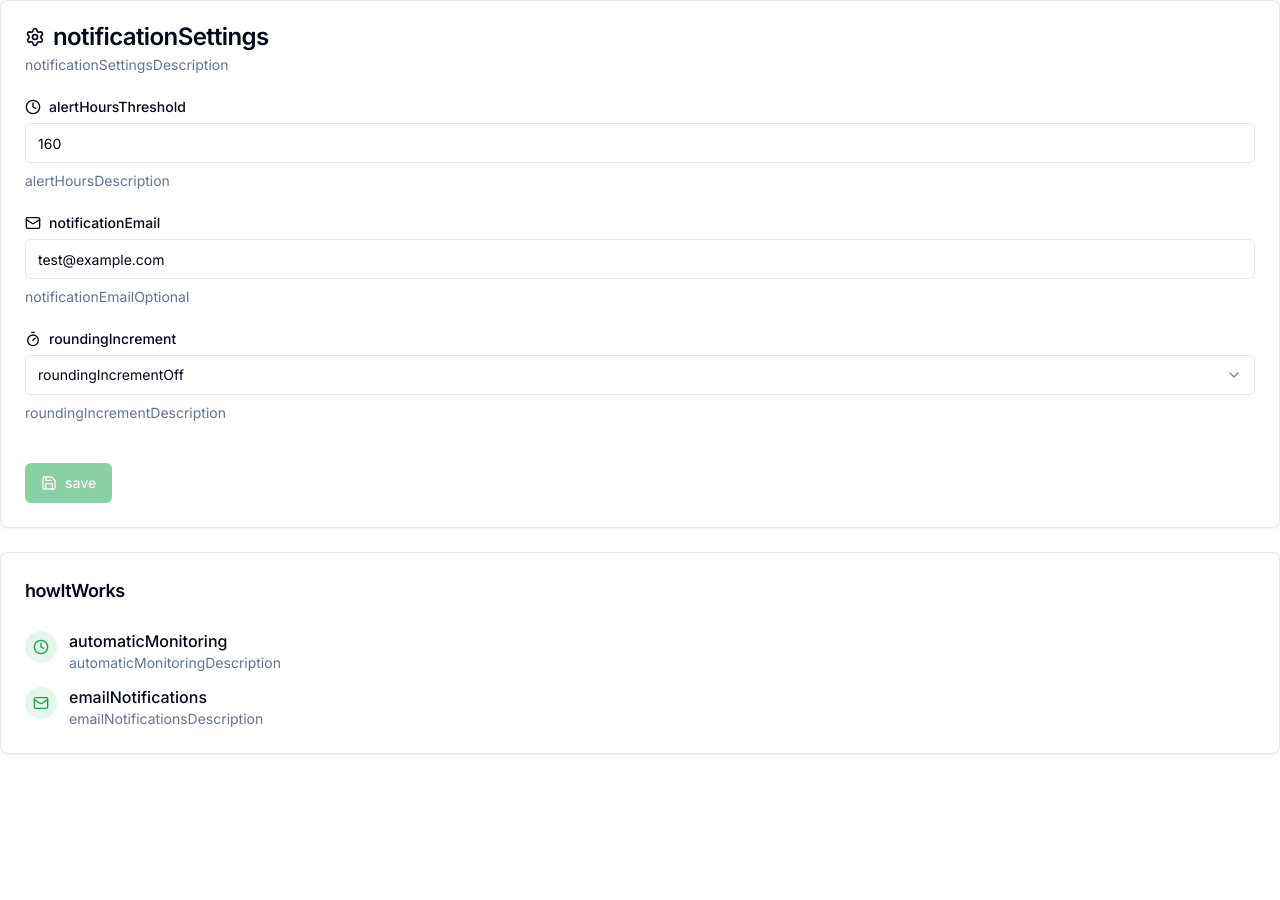
Scenario: SettingsForm › should disable form inputs while submitting
In the number field labelled "alertHoursThreshold": (640, 143) [25,123,1255,163], type "180"
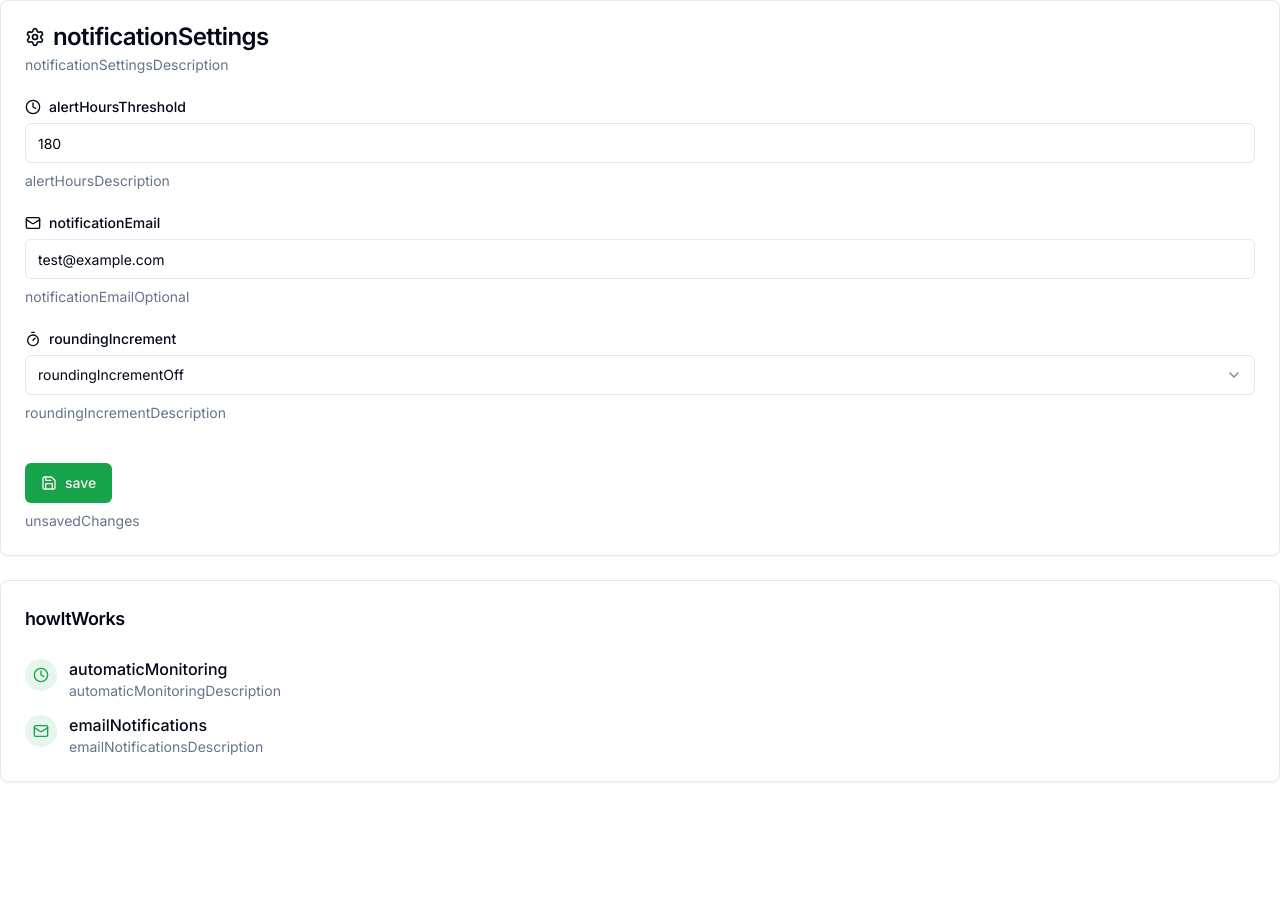
Click the button "save": (69, 483) [25,463,112,503]
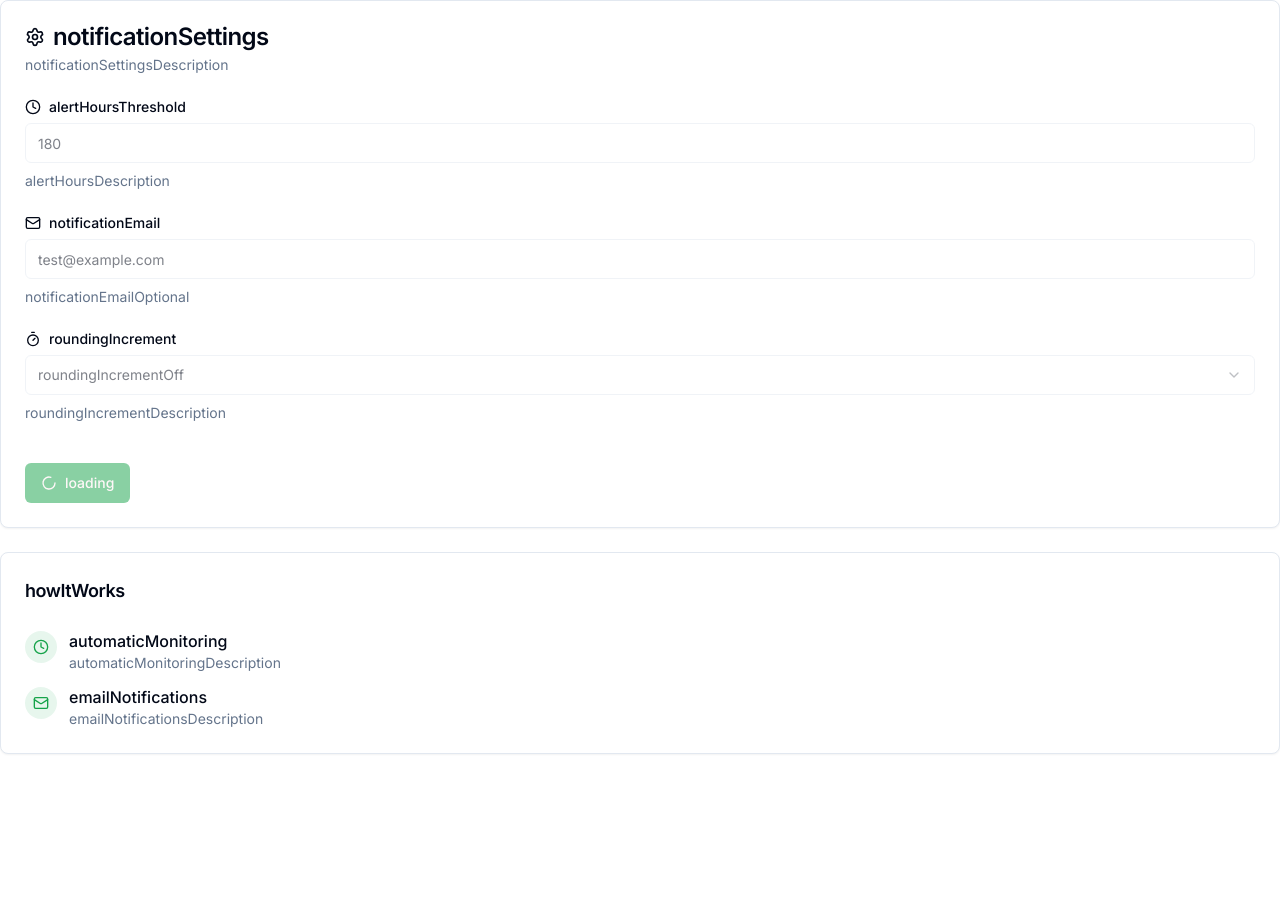
Now the number field labelled "alertHoursThreshold" is disabled, box [25,123,1255,163]
Now the field labelled "notificationEmail" is disabled, box [25,239,1255,279]
Now the button named "save" is disabled, box [25,463,130,503]
